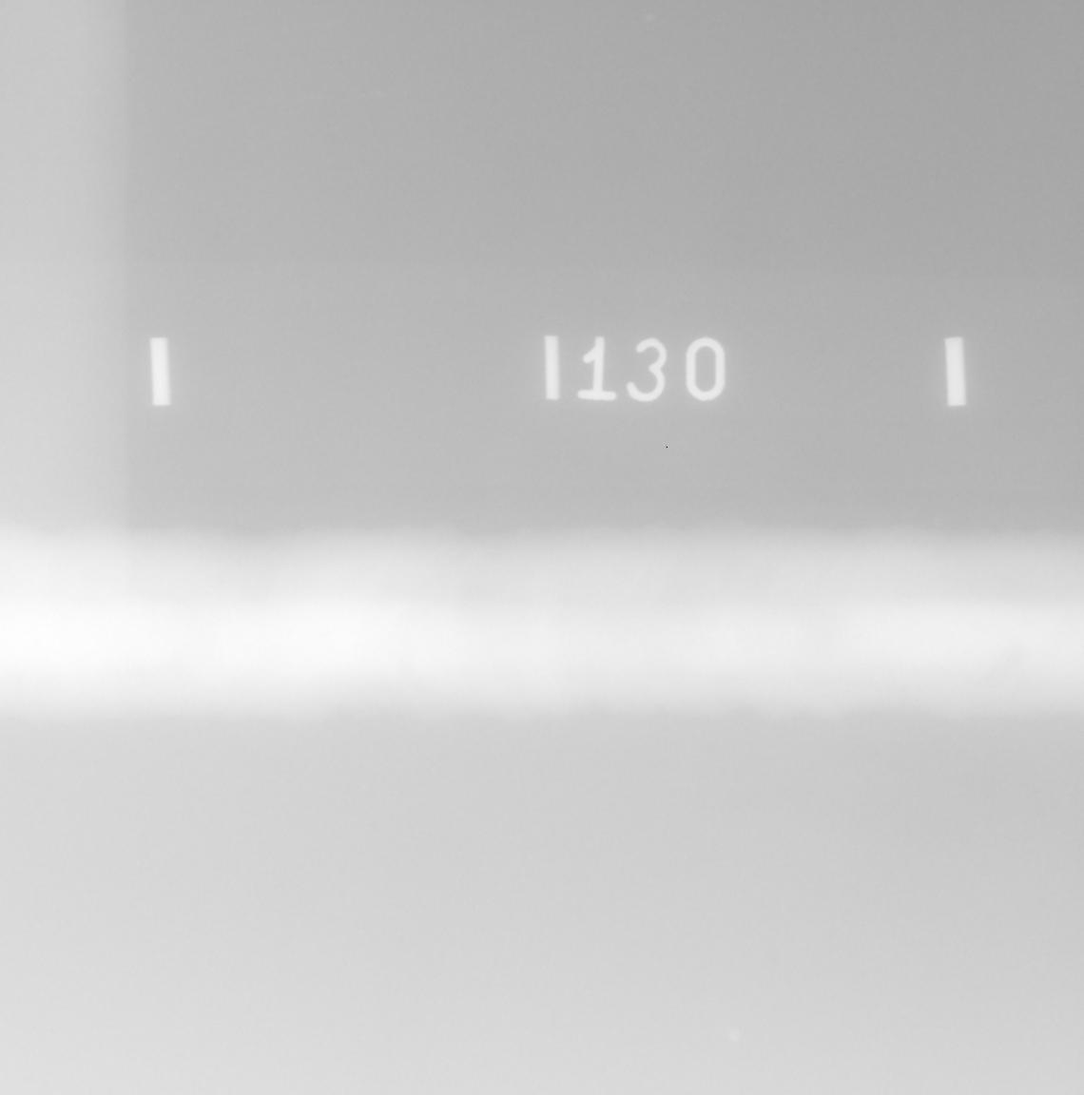Lack of Fusion: (317, 633, 330, 636)
